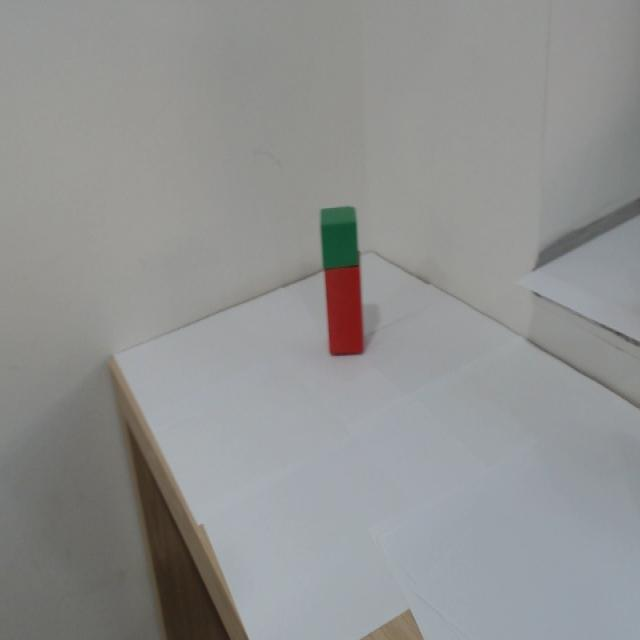cube: (320, 212, 366, 267)
